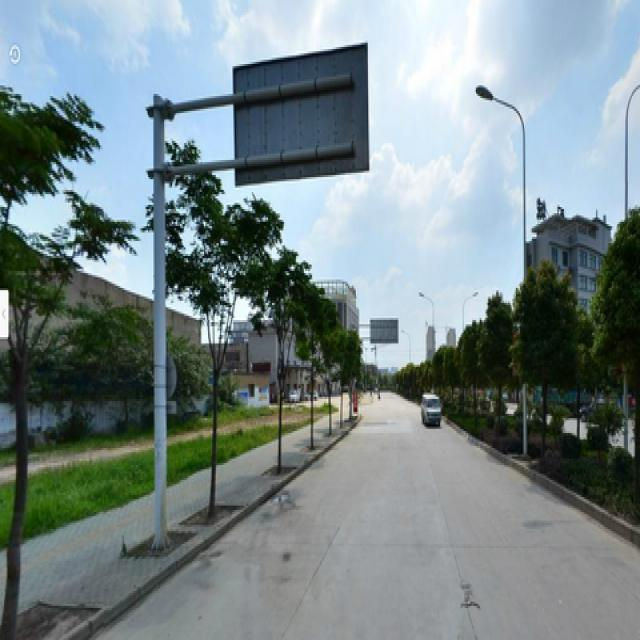cinn: (524, 271, 565, 450), (476, 305, 507, 437)
koel: (172, 148, 240, 502), (261, 256, 291, 454), (301, 281, 324, 446)
